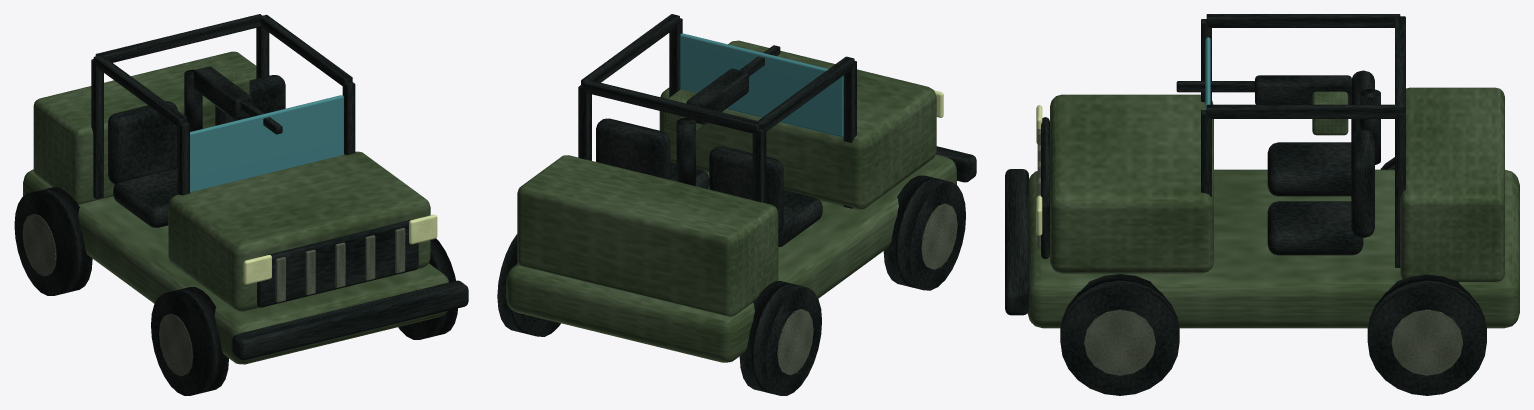
Rendered from jeep.glb.
3 renders of one model, left to right at view 1: azimuth 30°, elevation 25°; view 2: azimuth 150°, elevation 25°; view 3: azimuth 270°, elevation 25°, orthographic. The views are drawn at different scales.
Visible parts, largest first — view 1: Engine hood, Chassis.001, Rear cargo, Windscreen, Bumper, Grille, Rubber tire.002, Rubber tire.003, Seat back, Seat, Roll cage cross, Mounted shotgun (+20 smaller); view 2: Rear cargo, Chassis.001, Engine hood, Windscreen, Rubber tire.002, Rubber tire.003, Seat back.001, Seat back, Roll cage cross, Wheel rim.002, Wheel rim.003, Rubber tire.005 (+11 smaller); view 3: Chassis.001, Engine hood, Rear cargo, Rubber tire.004, Rubber tire.005, Seat.001, Seat, Wheel rim.005, Wheel rim.004, Bumper, Roll cage roof.001, Roll cage roof (+11 smaller).
Part boxes in pixels (left/top/right/bottom): Engine hood: left=168, top=151, right=430, bottom=311; Chassis.001: left=23, top=169, right=448, bottom=364; Rear cargo: left=33, top=51, right=256, bottom=204; Windscreen: left=190, top=95, right=343, bottom=192; Bumper: left=232, top=280, right=468, bottom=360; Grille: left=257, top=219, right=418, bottom=307; Rubber tire.002: left=151, top=287, right=228, bottom=395; Rubber tire.003: left=14, top=187, right=92, bottom=295; Seat back: left=108, top=101, right=177, bottom=184; Seat: left=113, top=169, right=177, bottom=227; Roll cage cross: left=95, top=14, right=262, bottom=62; Mounted shotgun: left=193, top=66, right=252, bottom=119; Rear cargo: left=517, top=155, right=778, bottom=316; Chassis.001: left=506, top=154, right=956, bottom=362; Engine hood: left=659, top=40, right=936, bottom=209; Windscreen: left=680, top=33, right=843, bottom=137; Rubber tire.002: left=883, top=175, right=965, bottom=290; Rubber tire.003: left=739, top=281, right=821, bottom=395; Seat back.001: left=596, top=118, right=670, bottom=179; Seat back: left=709, top=146, right=783, bottom=232; Roll cage cross: left=583, top=80, right=759, bottom=133; Wheel rim.002: left=921, top=203, right=957, bottom=269; Wheel rim.003: left=777, top=309, right=813, bottom=374; Rubber tire.005: left=497, top=234, right=560, bottom=336; Chassis.001: left=1027, top=169, right=1519, bottom=328; Engine hood: left=1050, top=94, right=1213, bottom=273; Rear cargo: left=1400, top=87, right=1504, bottom=281; Rubber tire.004: left=1060, top=274, right=1179, bottom=395; Rubber tire.005: left=1367, top=274, right=1486, bottom=395; Seat.001: left=1267, top=201, right=1363, bottom=255; Seat: left=1267, top=142, right=1351, bottom=196; Wheel rim.005: left=1391, top=309, right=1462, bottom=375; Wheel rim.004: left=1084, top=309, right=1155, bottom=375; Bumper: left=1005, top=169, right=1028, bottom=315; Roll cage roof.001: left=1206, top=104, right=1400, bottom=118; Roll cage roof: left=1206, top=14, right=1400, bottom=27.
Bounding box in the file's own units: 2.27 × 1.96 × 3.45.
Materials: 5 (4 with a texture image).
